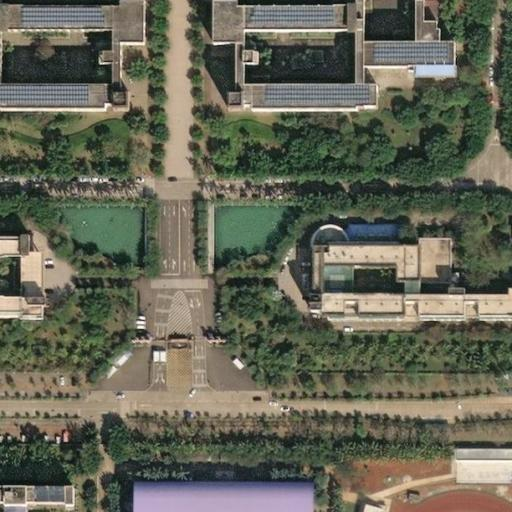building: (198, 0, 441, 117), (301, 238, 512, 325), (0, 0, 134, 112), (117, 474, 294, 512), (0, 32, 93, 88), (0, 232, 32, 321), (0, 491, 66, 512), (443, 446, 507, 461), (348, 496, 375, 512), (504, 238, 512, 252)
